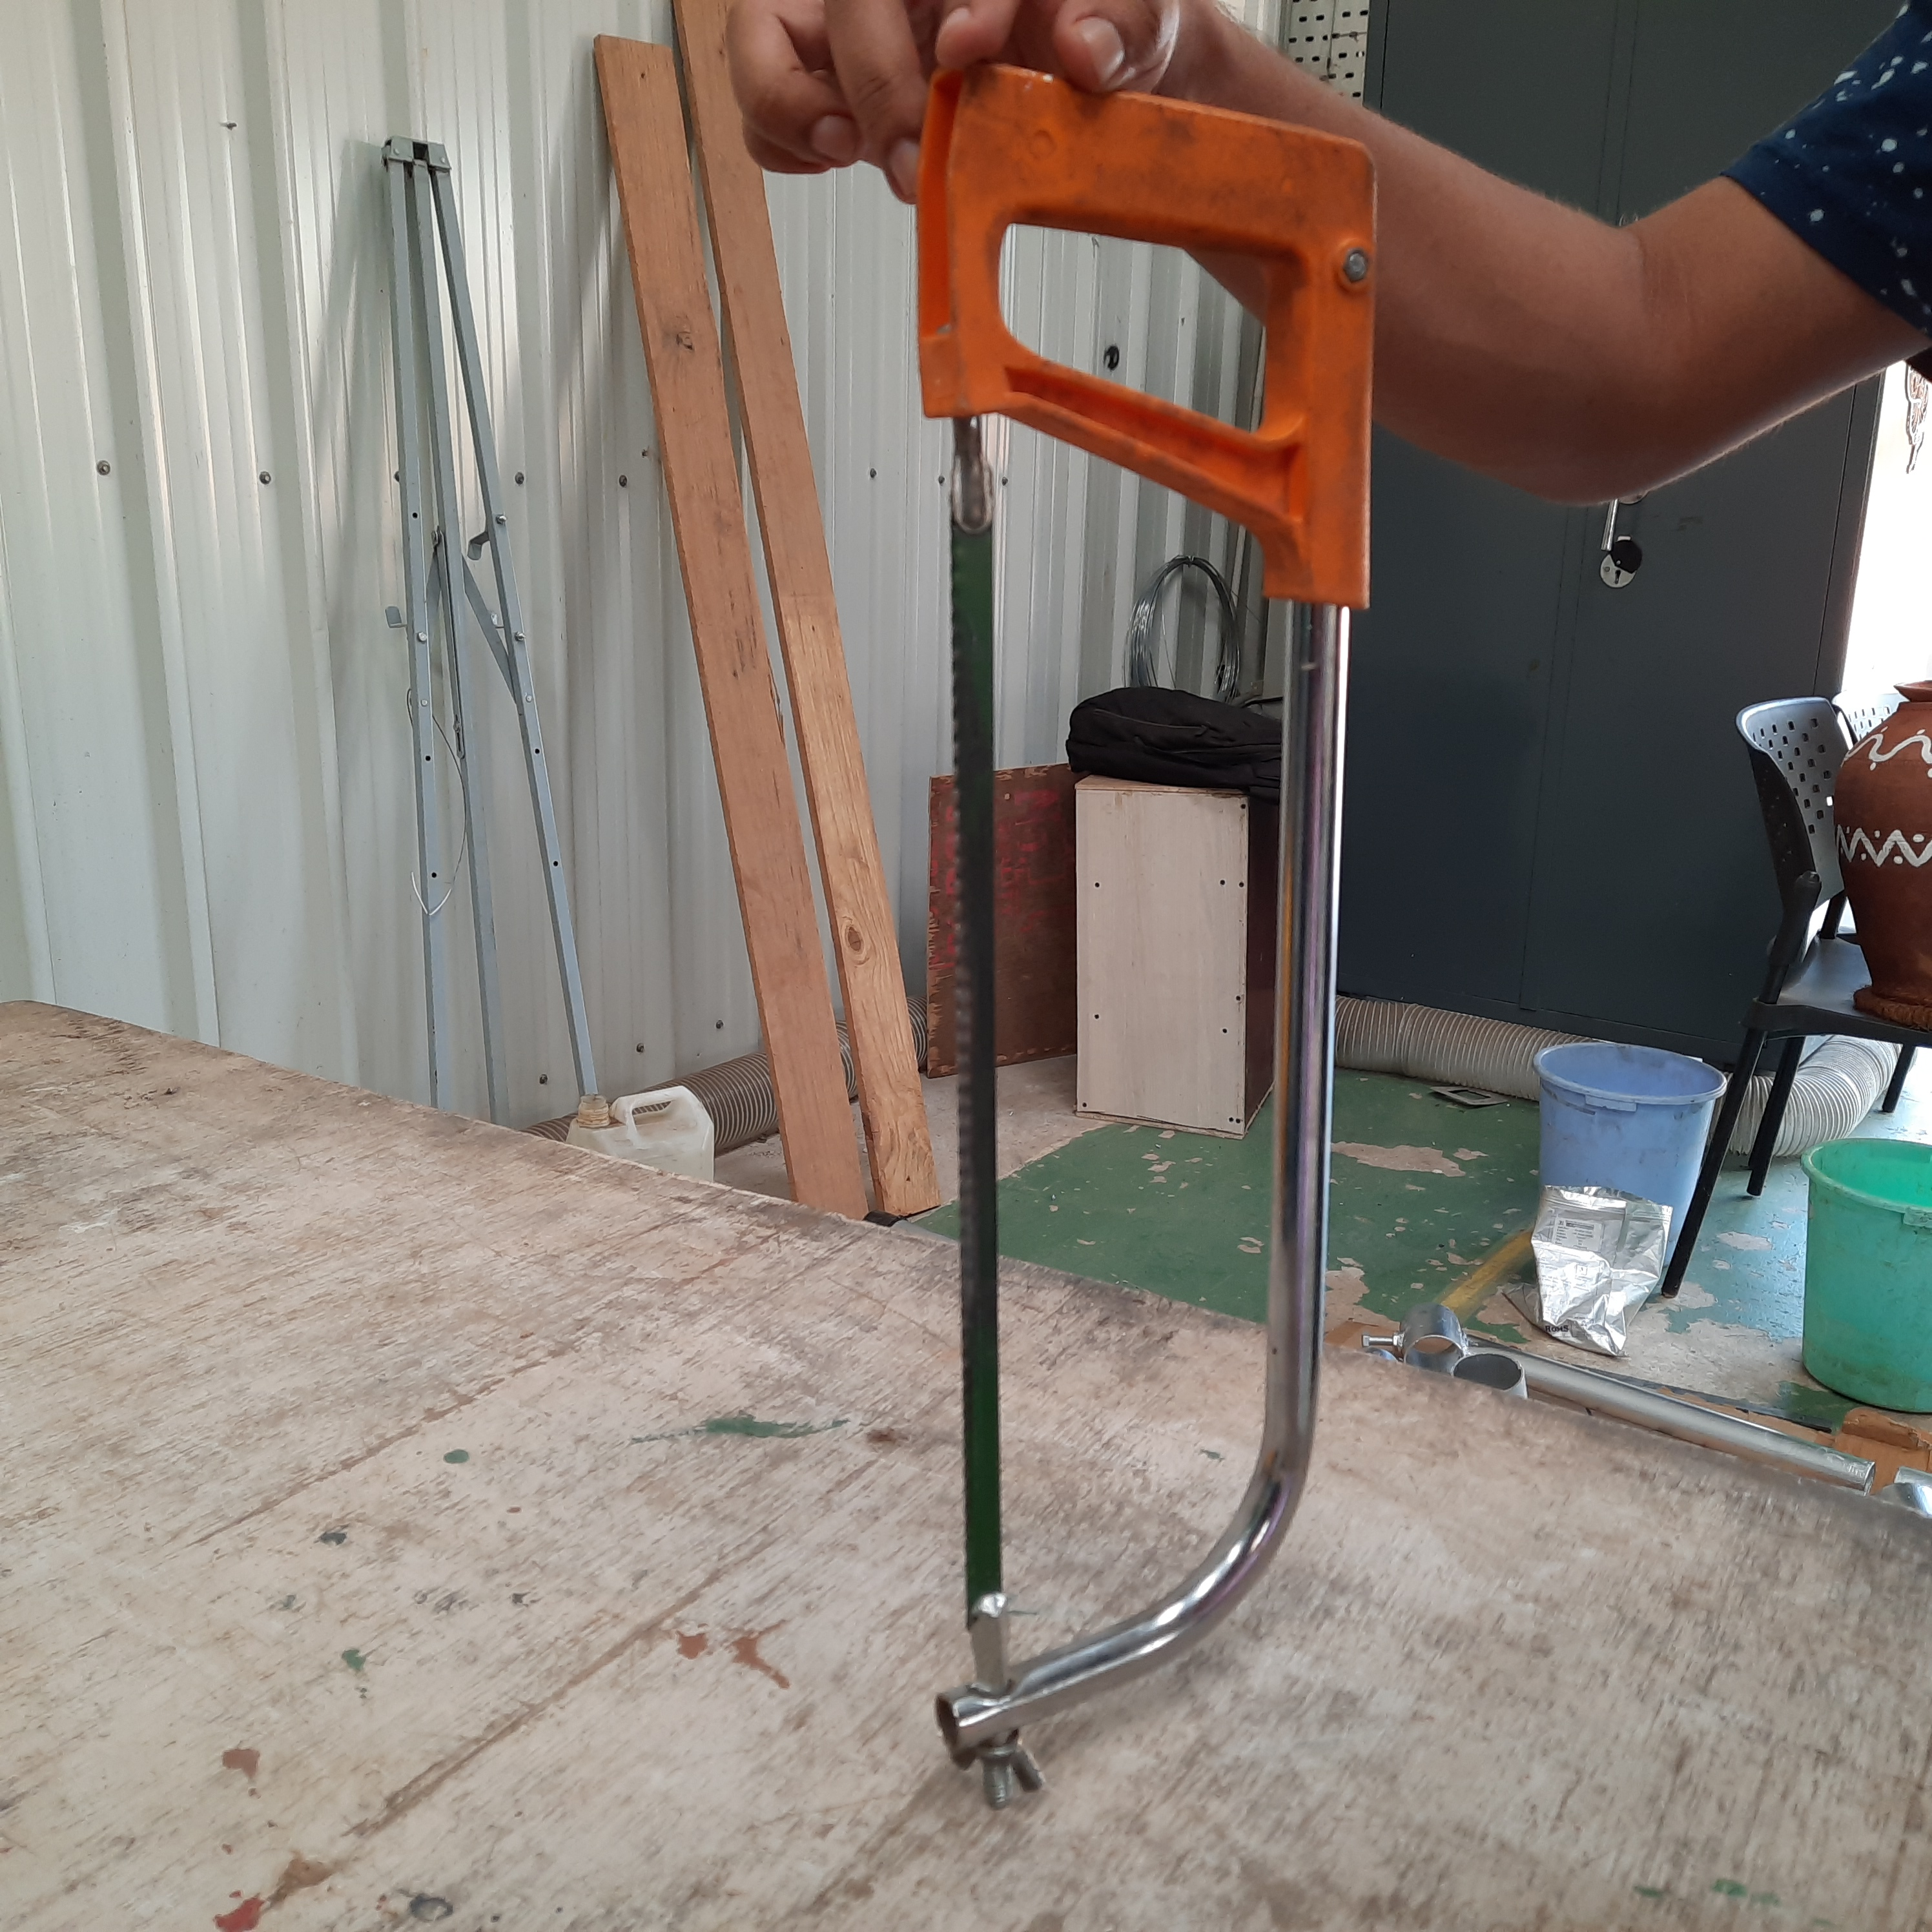Hexaframe: (911, 39, 1384, 1767)
